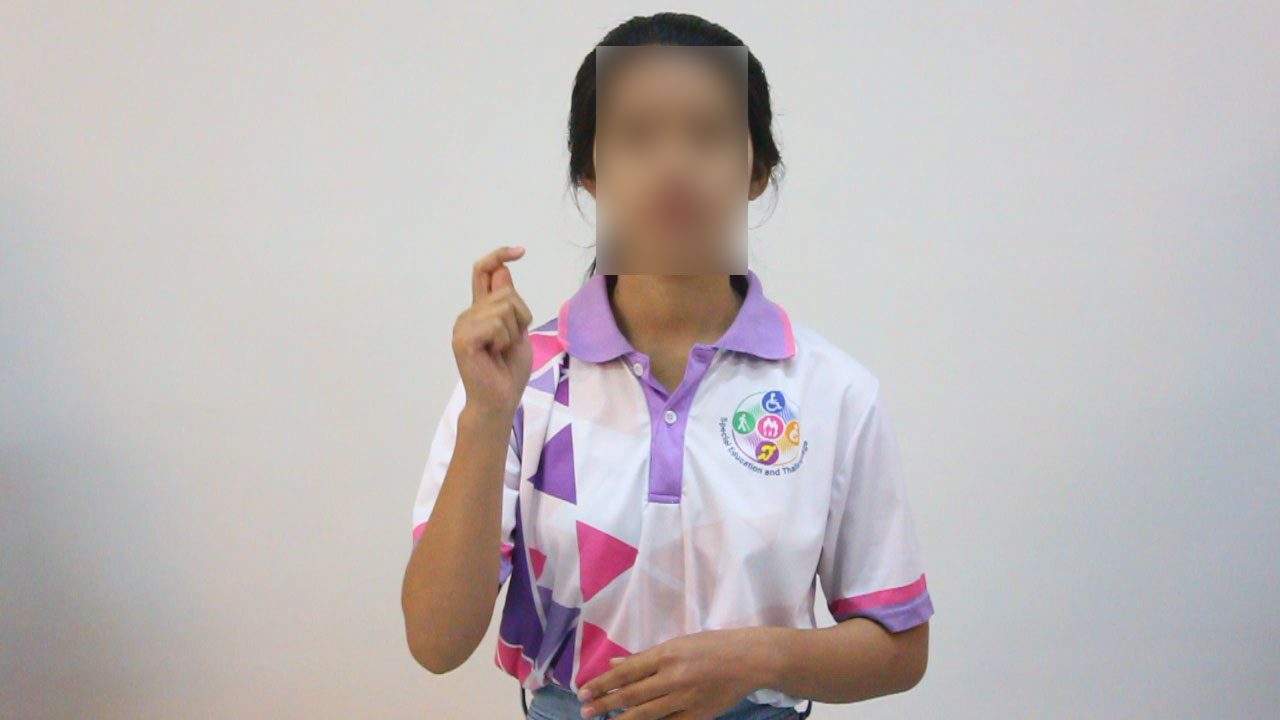or: (448, 238, 544, 424)
